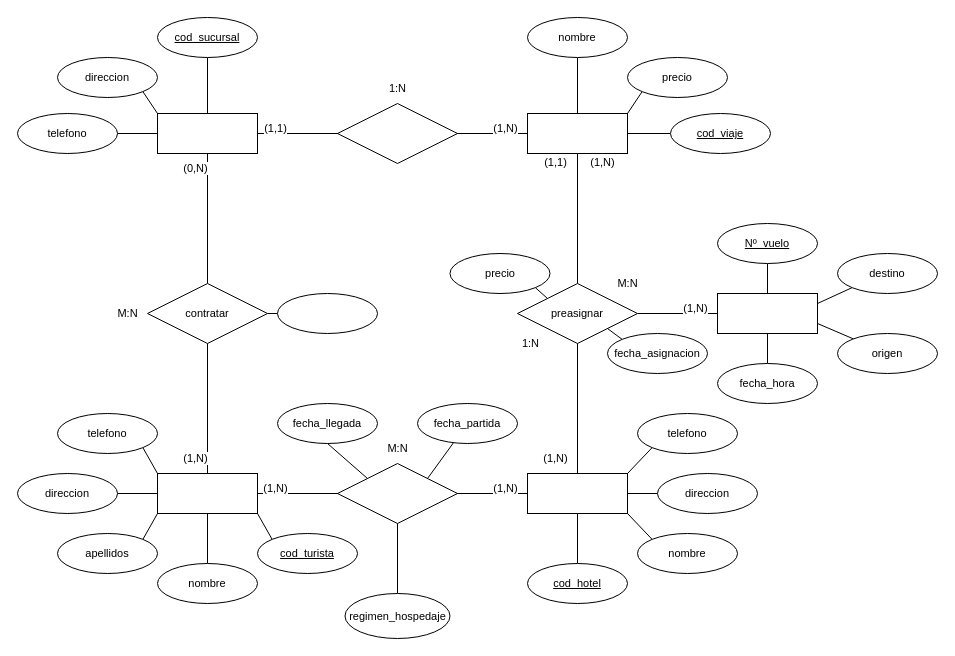
This 955x656 diagram has some shape labels left out. The shapes that lost their labels are listed below. From the top down, each one's centre as x and y in pixels, then its label:
At pixel 207 133: "SUCURSALES".
At pixel 397 133: "ofertar".
At pixel 577 133: "VIAJES".
At pixel 327 313: "fecha_contrato".
At pixel 767 313: "VUELOS".
At pixel 207 493: "TURISTAS".
At pixel 397 493: "elegir".
At pixel 577 493: "HOTELES".
